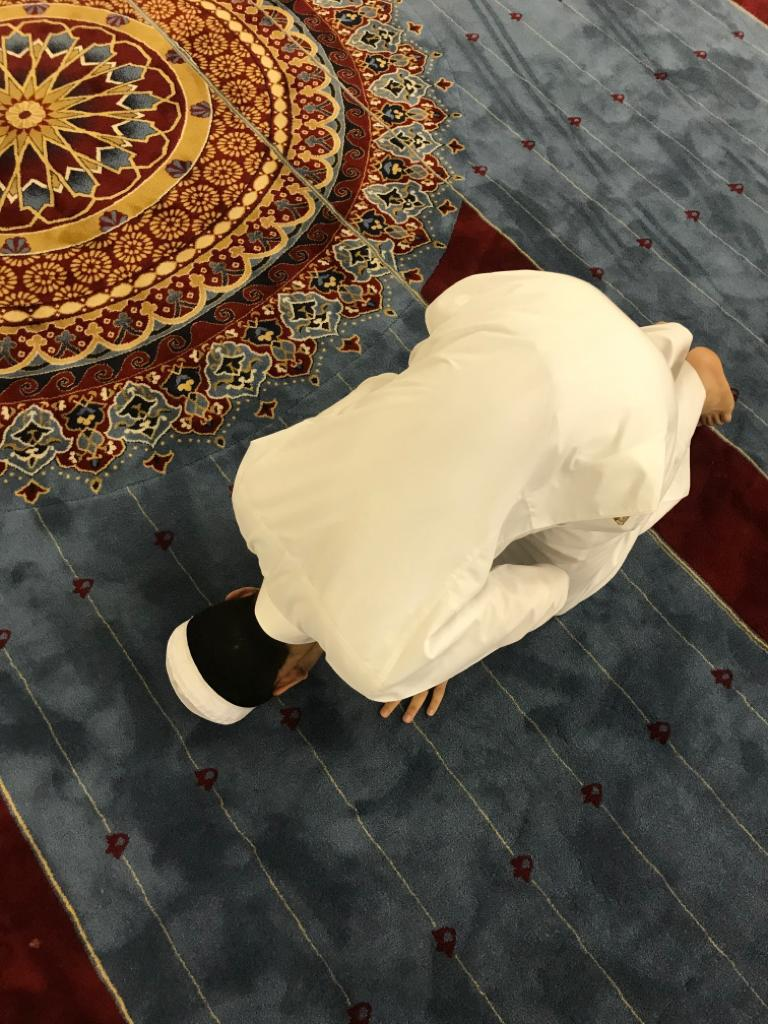sujud: (152, 262, 738, 739)
